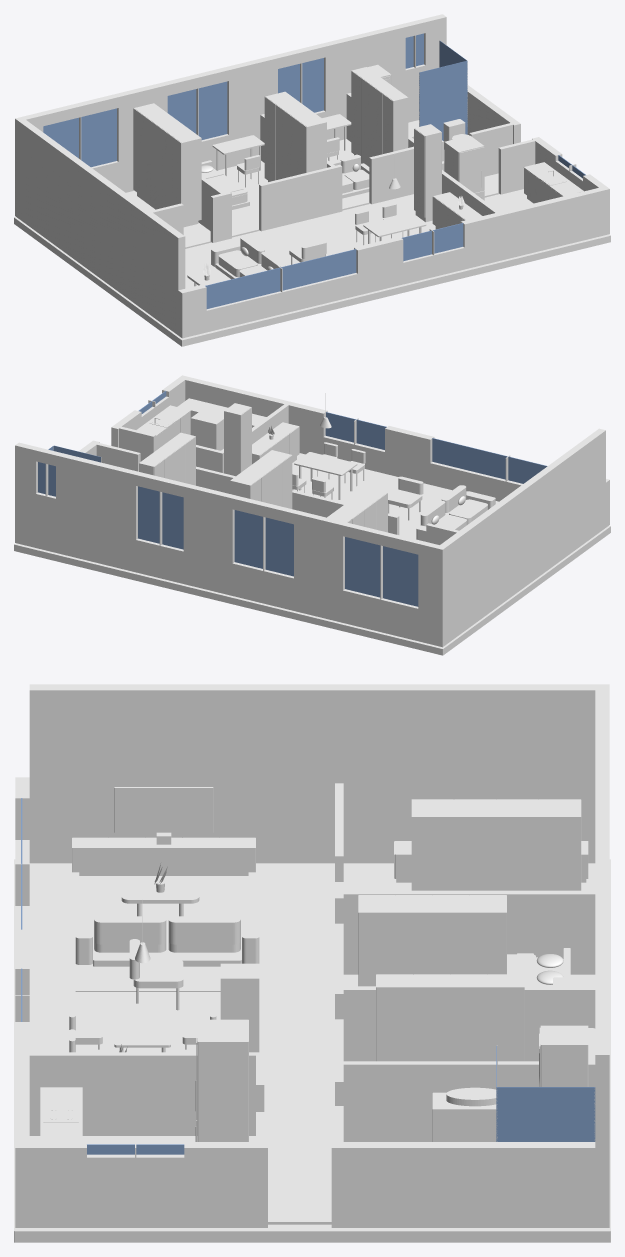
The model's file is interior.glb.
3 renders of one model, top to bottom at view 1: azimuth 30°, elevation 25°; view 2: azimuth 150°, elevation 25°; view 3: azimuth 270°, elevation 25°, orthographic. The views are drawn at different scales.
Parts seen in each view (by area): view 1: W03 W03.002, W01 W01.016, Presentation foundation Presentation foundation, W02 W02.031, W05 W05.016, R07 floor R07 floor, WIN01 glazing WIN01 glazing.001, W01 W01.013, W02 W02.028, DETAIL-SHOWER shower glass front, WIN03 glazing WIN03 glazing.001, J01 carcass (+52 smaller); view 2: W03 W03.002, W02 W02.031, Presentation foundation Presentation foundation, W02 W02.025, W02 W02.028, WIN03 glazing WIN03 glazing.001, W01 W01.016, WIN04 glazing WIN04 glazing.001, W02 W02.022, R01 floor R01 floor, W02 W02.023, WIN01 glazing WIN01 glazing.001 (+41 smaller); view 3: W03 W03.002, R07 floor R07 floor, W04 W04.013, R01 floor R01 floor, J01 carcass, J04 carcass, W09 W09.002, J02 carcass, Presentation foundation Presentation foundation, W08 W08.002, W06 W06.002, W04 W04.011 (+32 smaller).
Boxes of the visible parts, x1,y1,x2,y2 form: W03 W03.002: [19, 120, 185, 334]; W01 W01.016: [461, 186, 609, 269]; Presentation foundation Presentation foundation: [14, 194, 610, 346]; W02 W02.031: [322, 24, 405, 140]; W05 W05.016: [259, 164, 342, 231]; R07 floor R07 floor: [185, 173, 499, 269]; WIN01 glazing WIN01 glazing.001: [205, 249, 356, 308]; W01 W01.013: [206, 273, 358, 332]; W02 W02.028: [225, 55, 277, 167]; DETAIL-SHOWER shower glass front: [419, 61, 467, 140]; WIN03 glazing WIN03 glazing.001: [43, 108, 116, 167]; J01 carcass: [134, 103, 201, 223]; W03 W03.002: [440, 428, 605, 643]; W02 W02.031: [56, 452, 138, 572]; Presentation foundation Presentation foundation: [14, 525, 610, 655]; W02 W02.025: [294, 510, 346, 622]; W02 W02.028: [184, 484, 235, 595]; WIN03 glazing WIN03 glazing.001: [345, 537, 418, 606]; W01 W01.016: [178, 375, 326, 454]; WIN04 glazing WIN04 glazing.001: [234, 510, 293, 576]; W02 W02.022: [418, 541, 446, 647]; R01 floor R01 floor: [292, 453, 498, 526]; W02 W02.023: [342, 589, 418, 641]; WIN01 glazing WIN01 glazing.001: [432, 438, 547, 483]; W03 W03.002: [29, 684, 595, 863]; R07 floor R07 floor: [264, 863, 334, 1224]; W04 W04.013: [331, 1142, 595, 1227]; R01 floor R01 floor: [29, 863, 264, 1052]; J01 carcass: [411, 799, 581, 890]; J04 carcass: [376, 974, 524, 1061]; W09 W09.002: [29, 1052, 264, 1135]; J02 carcass: [358, 895, 506, 986]; Presentation foundation Presentation foundation: [14, 859, 610, 1242]; W08 W08.002: [343, 1061, 595, 1141]; W06 W06.002: [343, 890, 595, 974]; W04 W04.011: [86, 1154, 185, 1227].
Size of the model in its own units: 12.44 by 2.92 by 8.44.
